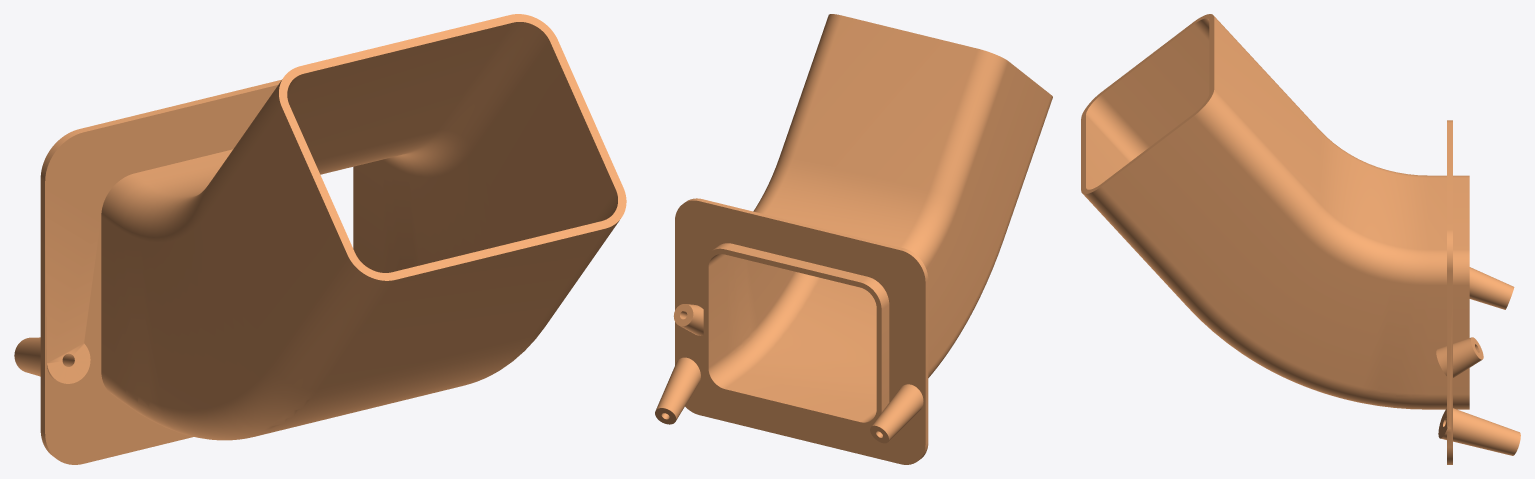
The picture shows the model from 3 angles, left to right: view 1: azimuth 30°, elevation 25°; view 2: azimuth 150°, elevation 25°; view 3: azimuth 270°, elevation 25°; orthographic projection. The views are drawn at different scales.
Parts seen in each view (by area): view 1: Option_R005-B_concept; view 2: Option_R005-B_concept; view 3: Option_R005-B_concept.
Part boxes in pixels (<box>): Option_R005-B_concept: <box>14,14,626,464</box>; Option_R005-B_concept: <box>655,14,1052,464</box>; Option_R005-B_concept: <box>1081,14,1520,464</box>.
Size of the model in its own units: 0.1524 by 0.1896 by 0.2126.
